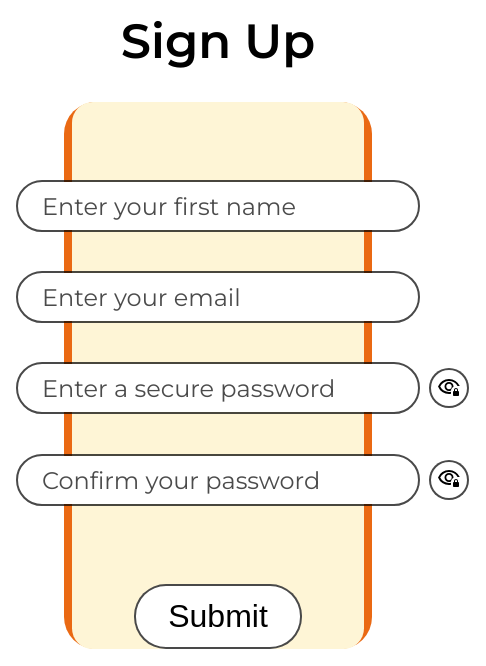
SignUp Form Validation › should invalidate empty form submission
// clicking the button
Click the button "Submit" at (218, 616), box 134,584 -> 302,649
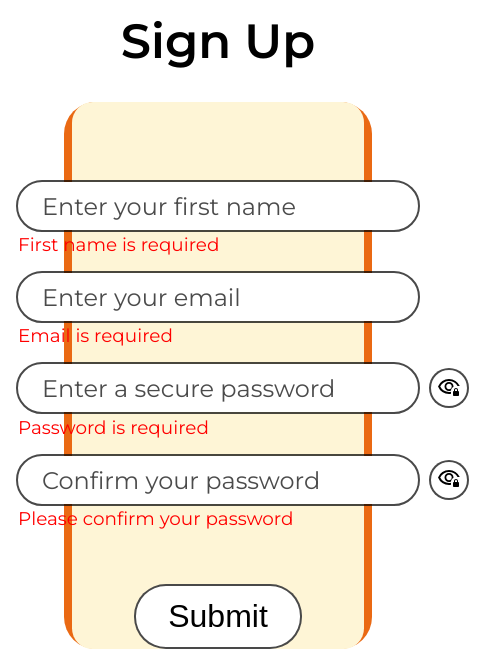
Now the text "First name is required" is shown, box 18,233 -> 219,256
Now the text "Email is required" is shown, box 18,324 -> 173,347
Now the text "Password is required" is shown, box 18,416 -> 209,439
